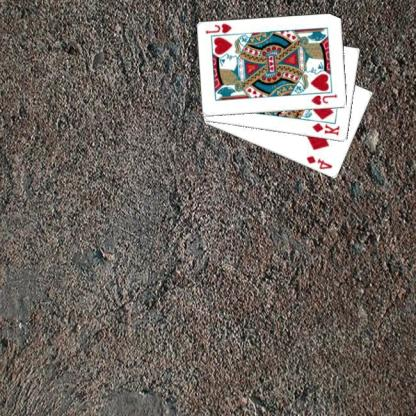4D: (306, 153, 335, 171)
JH: (310, 92, 340, 106), (205, 21, 235, 35)
KD: (311, 120, 343, 137)
